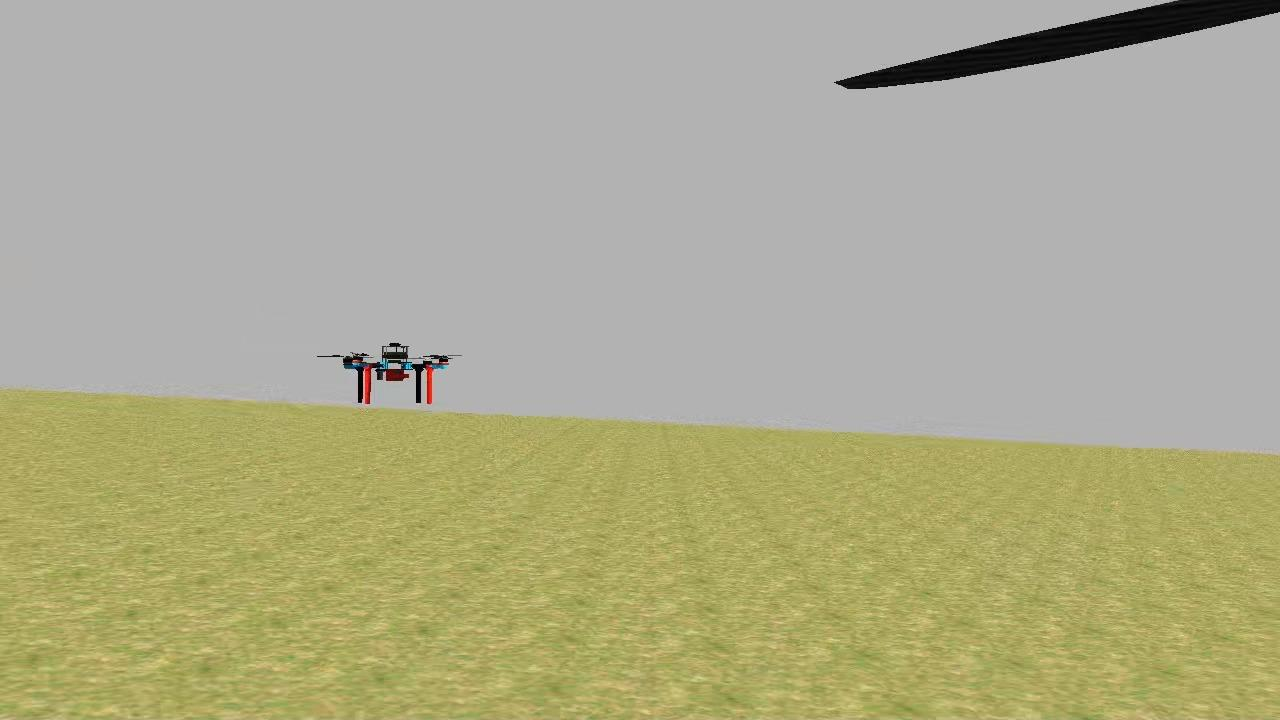UAV: (336, 338, 458, 408)
